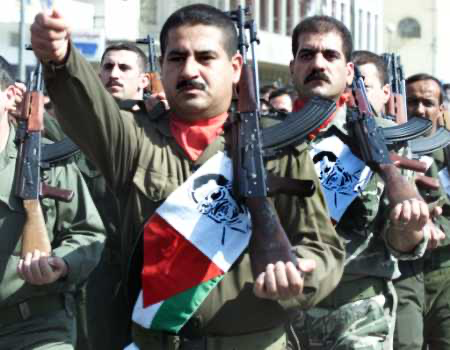Face: (164, 26, 244, 126), (292, 33, 353, 106), (347, 59, 397, 118), (94, 50, 144, 105), (402, 75, 444, 127), (264, 92, 295, 119)
